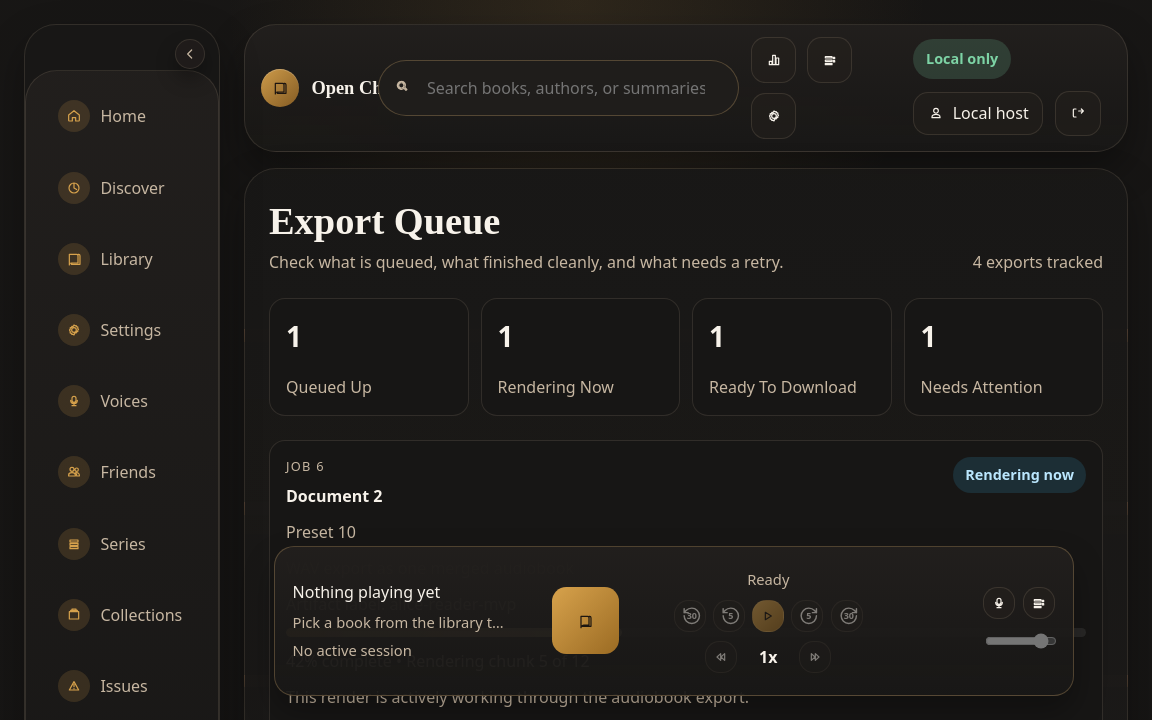
JobsPage › summarizes queue health in Alice-facing language and keeps top-level navigation available
Expected: the heading "Export Queue" is shown, [269, 200, 500, 242]
Expected: the text "4 exports tracked" is shown, [973, 250, 1103, 274]
Click the link "Library" at (105, 259), box [58, 243, 153, 275]
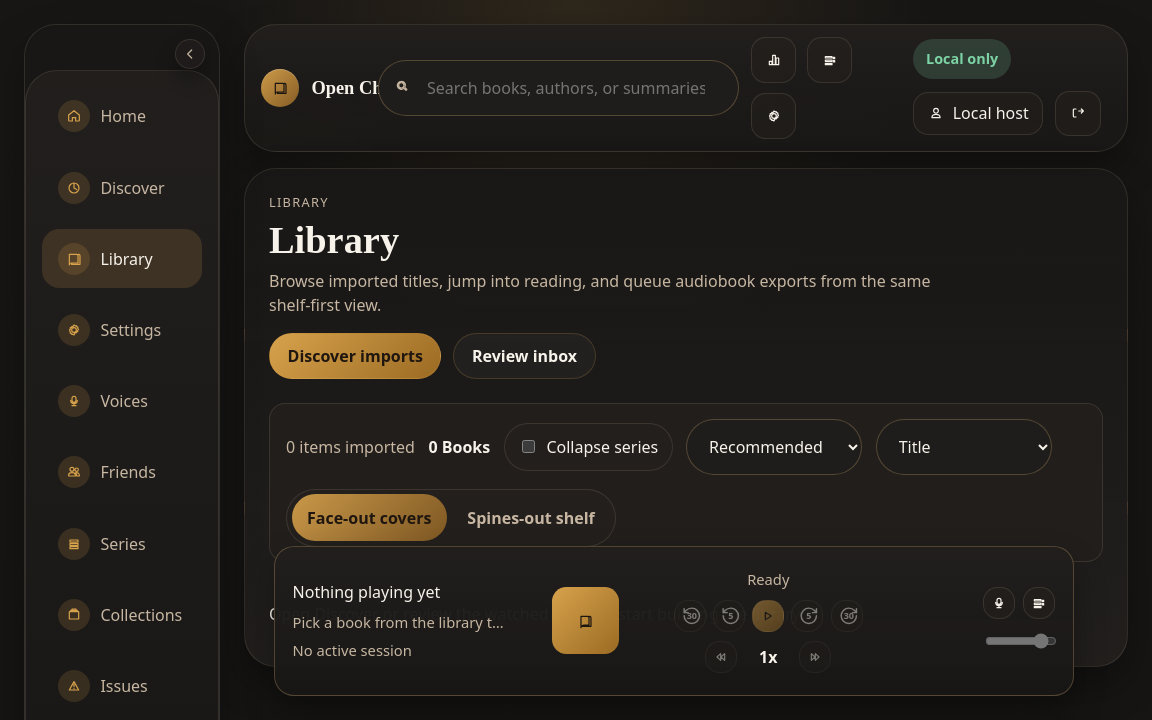
Expected: the heading "Library" is shown, [269, 219, 399, 261]
